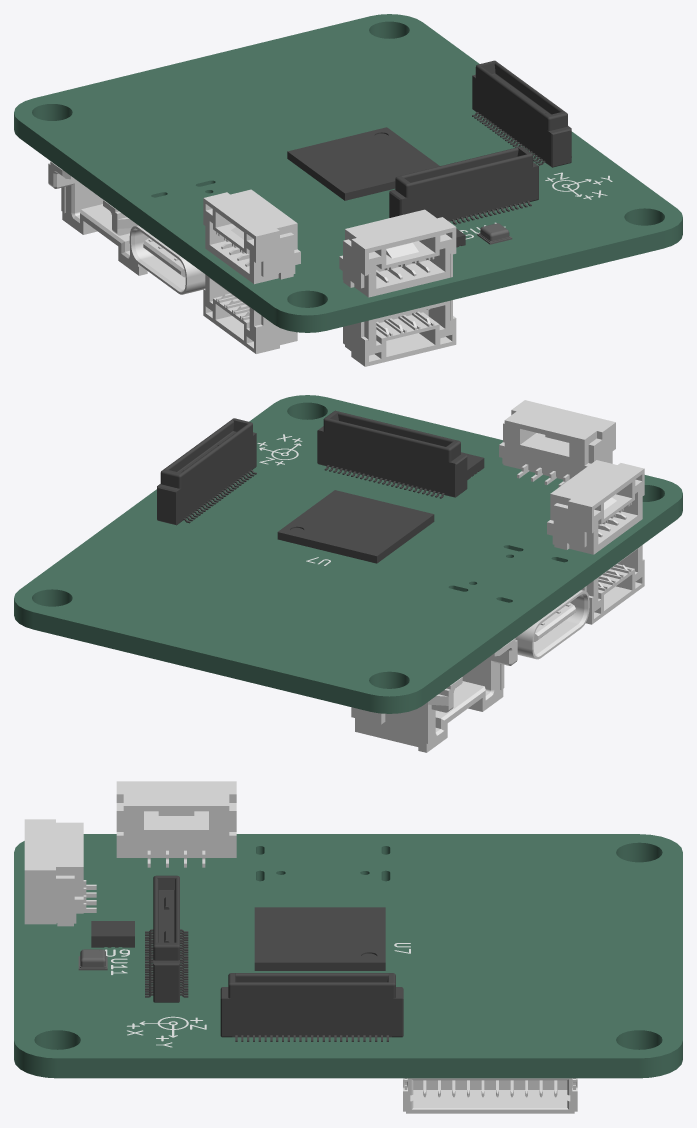
File: fc0bc0ac-mcxnt1hub.glb
The picture shows the model from 3 angles, top to bottom: view 1: azimuth 30°, elevation 25°; view 2: azimuth 150°, elevation 25°; view 3: azimuth 270°, elevation 25°; orthographic projection. The views are drawn at different scales.
Visible parts, largest first — view 1: PCB, CAN1, CAN0, J8, J9, MCXN947, ETH0, USBC; view 2: PCB, CAN0, J8, CAN1, MCXN947, J9, ETH0, USBC; view 3: PCB, J9, CAN0, MCXN947, CAN1, DEBUG, J8, ICM45686, SILK, BMP581.
Boxes of the visible parts, left/top/right/bottom form: PCB: left=14, top=14, right=682, bottom=332; CAN1: left=339, top=209, right=456, bottom=366; CAN0: left=203, top=189, right=300, bottom=353; J8: left=389, top=146, right=538, bottom=224; J9: left=472, top=60, right=571, bottom=167; MCXN947: left=287, top=127, right=439, bottom=200; ETH0: left=48, top=161, right=147, bottom=275; USBC: left=129, top=225, right=205, bottom=294; PCB: left=14, top=395, right=682, bottom=713; CAN0: left=547, top=460, right=644, bottom=624; J8: left=317, top=410, right=467, bottom=498; CAN1: left=499, top=400, right=615, bottom=487; MCXN947: left=277, top=490, right=434, bottom=563; J9: left=157, top=418, right=256, bottom=525; ETH0: left=351, top=638, right=517, bottom=752; USBC: left=515, top=590, right=589, bottom=659; PCB: left=14, top=834, right=682, bottom=1078; J9: left=220, top=973, right=403, bottom=1041; CAN0: left=116, top=781, right=236, bottom=867; MCXN947: left=254, top=907, right=385, bottom=970; CAN1: left=24, top=819, right=96, bottom=926; DEBUG: left=403, top=1078, right=577, bottom=1113; J8: left=145, top=875, right=188, bottom=1002; ICM45686: left=91, top=921, right=134, bottom=947; SILK: left=105, top=943, right=410, bottom=1047; BMP581: left=78, top=949, right=107, bottom=970.
Bounding box in the file's own units: 0.0365 × 0.0118 × 0.046.
